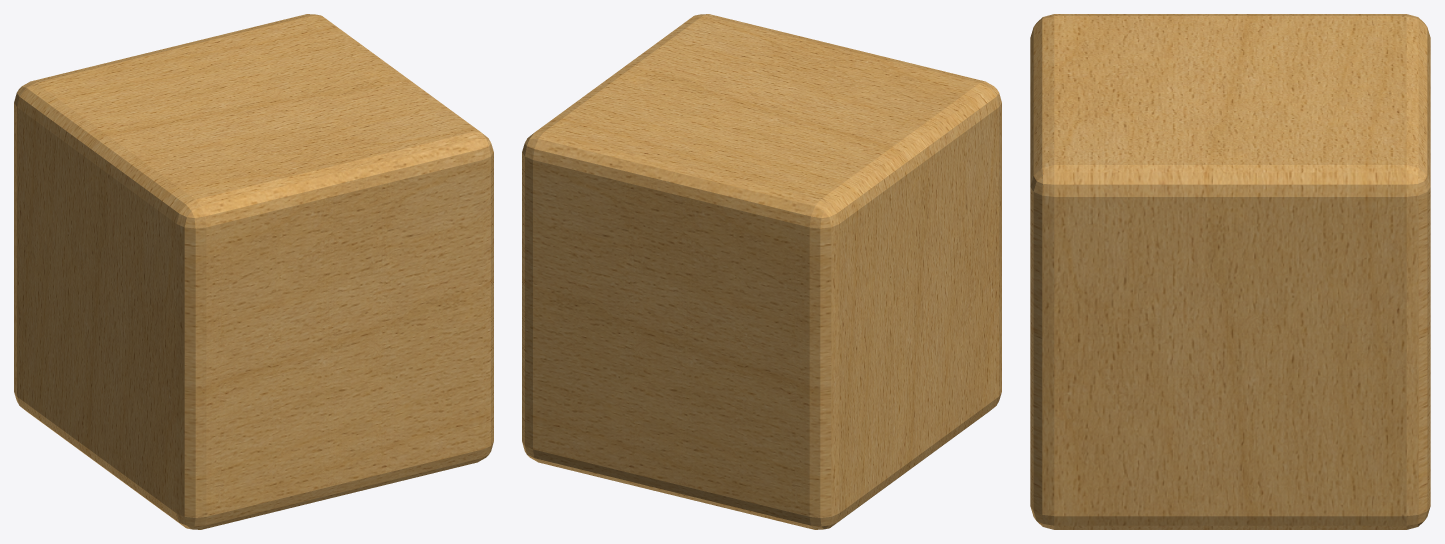
3 views of the same model, side by side, from view 1: azimuth 30°, elevation 25°; view 2: azimuth 150°, elevation 25°; view 3: azimuth 270°, elevation 25° (orthographic). The views are drawn at different scales.
Parts seen in each view (by area): view 1: wooden_block_2_5; view 2: wooden_block_2_5; view 3: wooden_block_2_5.
Boxes of the visible parts, box(x1,y1,x2,y2) form: wooden_block_2_5: box(14, 14, 493, 529); wooden_block_2_5: box(522, 14, 1001, 529); wooden_block_2_5: box(1030, 14, 1430, 529).
Size of the model in its own units: 0.025 by 0.025 by 0.025.
Materials: 1 (1 with a texture image).
